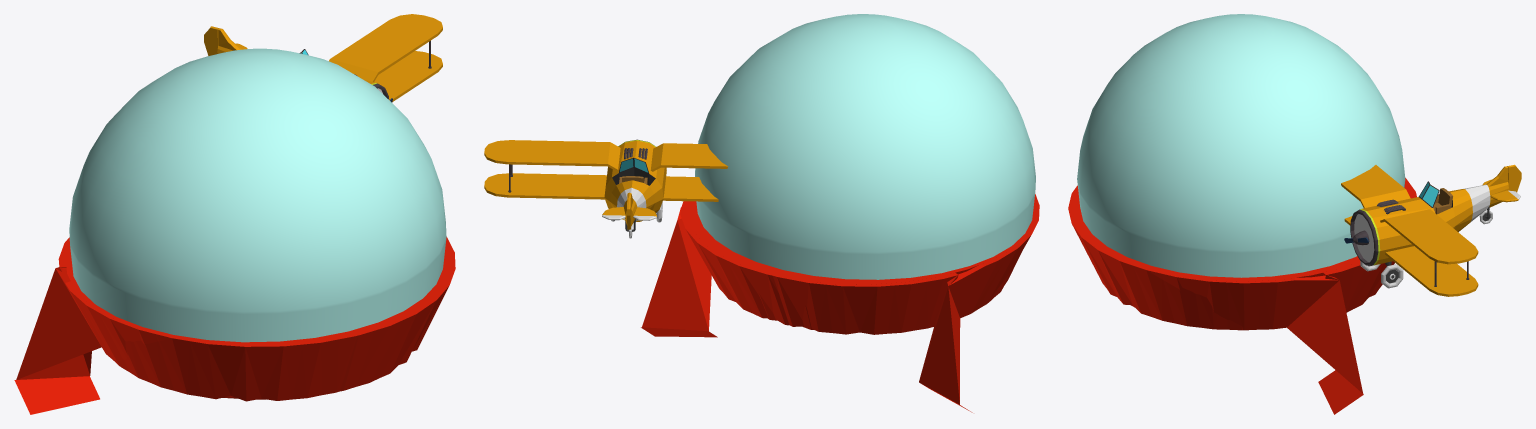
Rendered from Animated with flying.glb.
3 views of the same model, side by side, from view 1: azimuth 30°, elevation 25°; view 2: azimuth 150°, elevation 25°; view 3: azimuth 270°, elevation 25° (orthographic). The views are drawn at different scales.
Visible parts, largest first — view 1: Sphere, Wall, plane_chair; view 2: Sphere, Wall, plane_chair; view 3: Sphere, Wall, plane_chair.
Part boxes in pixels (left/top/right/bottom): Sphere: left=69, top=48, right=446, bottom=342; Wall: left=14, top=237, right=455, bottom=414; plane_chair: left=204, top=14, right=442, bottom=102; Sphere: left=695, top=14, right=1035, bottom=279; Wall: left=641, top=194, right=1039, bottom=412; plane_chair: left=484, top=139, right=728, bottom=238; Sphere: left=1077, top=14, right=1405, bottom=277; Wall: left=1068, top=178, right=1416, bottom=414; plane_chair: left=1341, top=164, right=1521, bottom=296.
Bounding box in the file's own units: 6.06 × 4.2 × 5.63.
